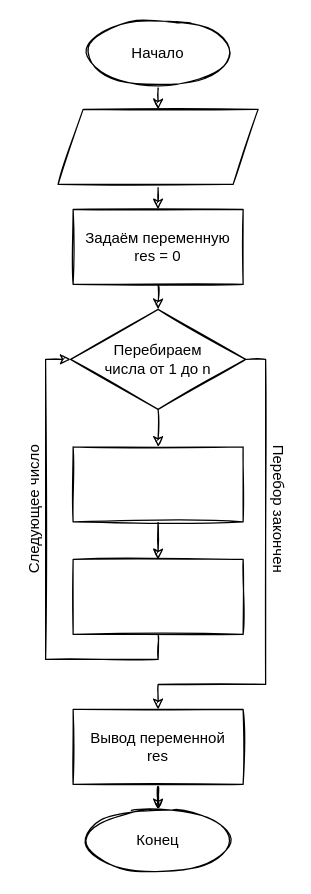
Image size: 311x894. Some labels were removed from this diagram. Here are the shapes that lost their labels. From the top down, the centre of each, then its label:
(x=157, y=146): Вводим количество членов ряда n
(x=157, y=484): Высчитываем следующий член ряда, деля предыдущий на -2
(x=157, y=596): Добавляем к переменной res значение нового члена ряда
